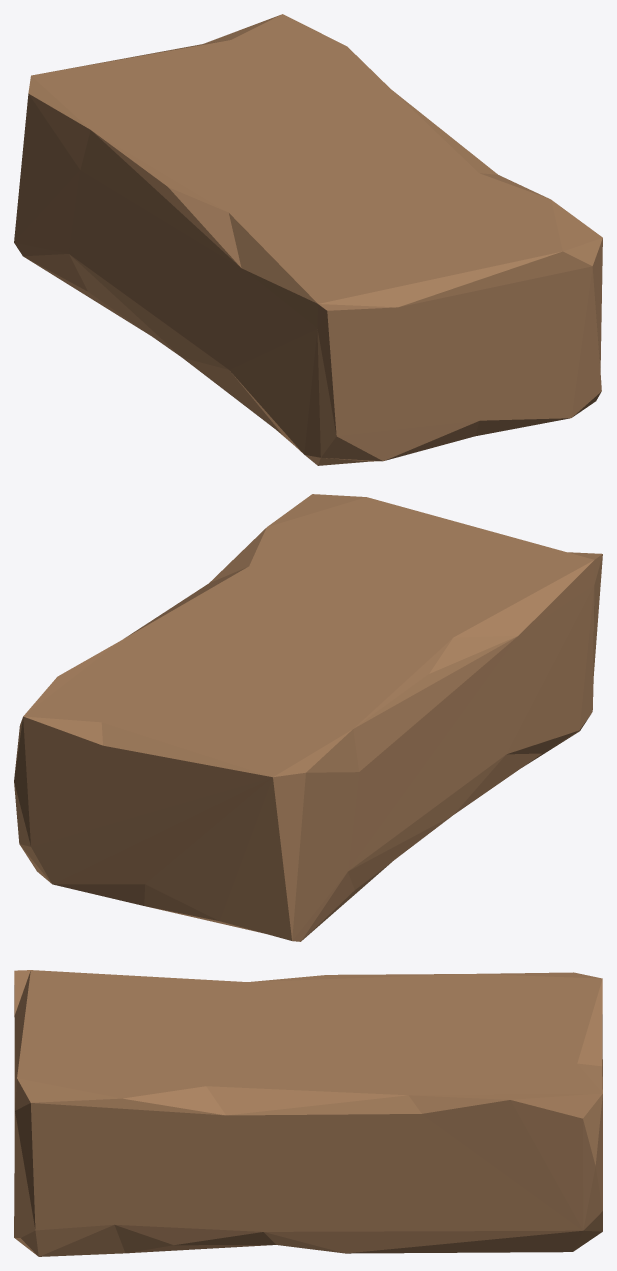
Rendered from SM_large_brick_06.fbx.
3 renders of one model, top to bottom at view 1: azimuth 30°, elevation 25°; view 2: azimuth 150°, elevation 25°; view 3: azimuth 270°, elevation 25°, orthographic. The views are drawn at different scales.
Visible parts, largest first — view 1: large_brick_06; view 2: large_brick_06; view 3: large_brick_06.
Part boxes in pixels (x1=…): large_brick_06: x1=14, y1=14, x2=602, y2=465; large_brick_06: x1=14, y1=494, x2=602, y2=941; large_brick_06: x1=14, y1=970, x2=602, y2=1256.
Bounding box in the file's own units: 142 × 80.64 × 272.
